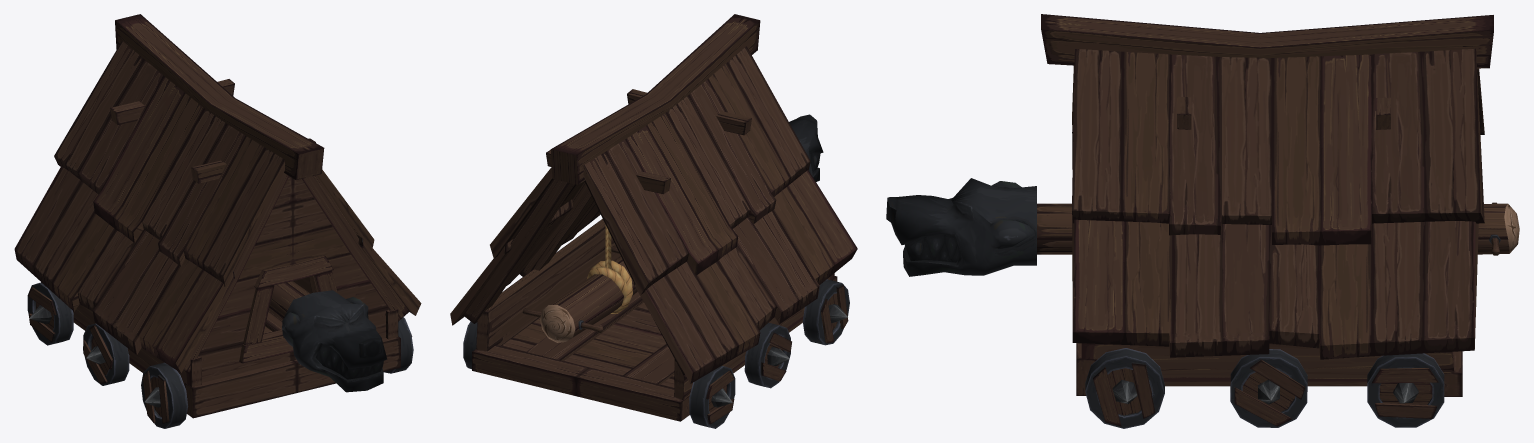
File: SM_PROP_batteringram_battle.fbx
3 renders of one model, left to right at view 1: azimuth 30°, elevation 25°; view 2: azimuth 150°, elevation 25°; view 3: azimuth 270°, elevation 25°, orthographic. The views are drawn at different scales.
Parts seen in each view (by area): view 1: SM_PROP_batteringram_battle, SM_PROP_batteringram_ram_battle, SM_PROP_batteringram_wheel_R_front_battle, SM_PROP_batteringram_wheel_R_mid_battle, SM_PROP_batteringram_wheel_R_back_battle, SM_PROP_batteringram_wheel_L_front_battle; view 2: SM_PROP_batteringram_battle, SM_PROP_batteringram_ram_battle, SM_PROP_batteringram_wheel_R_front_battle, SM_PROP_batteringram_wheel_R_back_battle, SM_PROP_batteringram_wheel_R_mid_battle, SM_PROP_batteringram_wheel_L_back_battle; view 3: SM_PROP_batteringram_battle, SM_PROP_batteringram_ram_battle, SM_PROP_batteringram_wheel_L_front_battle, SM_PROP_batteringram_wheel_L_mid_battle, SM_PROP_batteringram_wheel_L_back_battle.
Part boxes in pixels (x1,y1,x2,y2): SM_PROP_batteringram_battle: (14, 14, 421, 418); SM_PROP_batteringram_ram_battle: (268, 281, 387, 392); SM_PROP_batteringram_wheel_R_front_battle: (141, 362, 187, 428); SM_PROP_batteringram_wheel_R_mid_battle: (83, 323, 129, 385); SM_PROP_batteringram_wheel_R_back_battle: (27, 282, 73, 345); SM_PROP_batteringram_wheel_L_front_battle: (384, 317, 413, 373); SM_PROP_batteringram_battle: (450, 14, 857, 421); SM_PROP_batteringram_ram_battle: (522, 114, 823, 342); SM_PROP_batteringram_wheel_R_front_battle: (802, 279, 849, 345); SM_PROP_batteringram_wheel_R_back_battle: (689, 365, 735, 428); SM_PROP_batteringram_wheel_R_mid_battle: (744, 322, 791, 388); SM_PROP_batteringram_wheel_L_back_battle: (463, 321, 477, 369); SM_PROP_batteringram_battle: (1041, 14, 1493, 396); SM_PROP_batteringram_ram_battle: (886, 178, 1519, 276); SM_PROP_batteringram_wheel_L_front_battle: (1085, 348, 1164, 428); SM_PROP_batteringram_wheel_L_mid_battle: (1230, 349, 1307, 427); SM_PROP_batteringram_wheel_L_back_battle: (1367, 353, 1444, 427).
Bounding box in the file's own units: 362 × 351 × 602.
